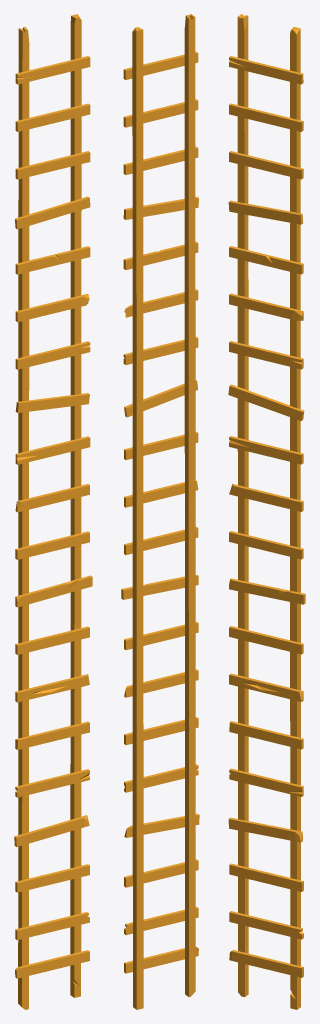
The model's file is SM_Ladder_Wood_Tall.fbx.
3 renders of one model, left to right at view 1: azimuth 30°, elevation 25°; view 2: azimuth 210°, elevation 25°; view 3: azimuth 330°, elevation 25°, orthographic.
Visible parts, largest first — view 1: ladder-wood-tall; view 2: ladder-wood-tall; view 3: ladder-wood-tall.
Part boxes in pixels (left/top/right/bottom): ladder-wood-tall: left=14, top=14, right=92, bottom=1009; ladder-wood-tall: left=121, top=14, right=199, bottom=1009; ladder-wood-tall: left=228, top=14, right=305, bottom=1009.
Bounding box in the file's own units: 0.6678 × 8.24 × 0.1016.
